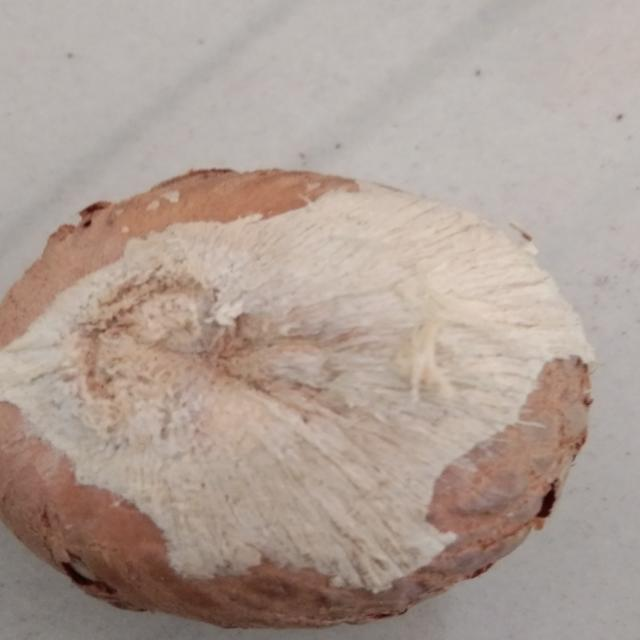karigot: (0, 155, 621, 640)
